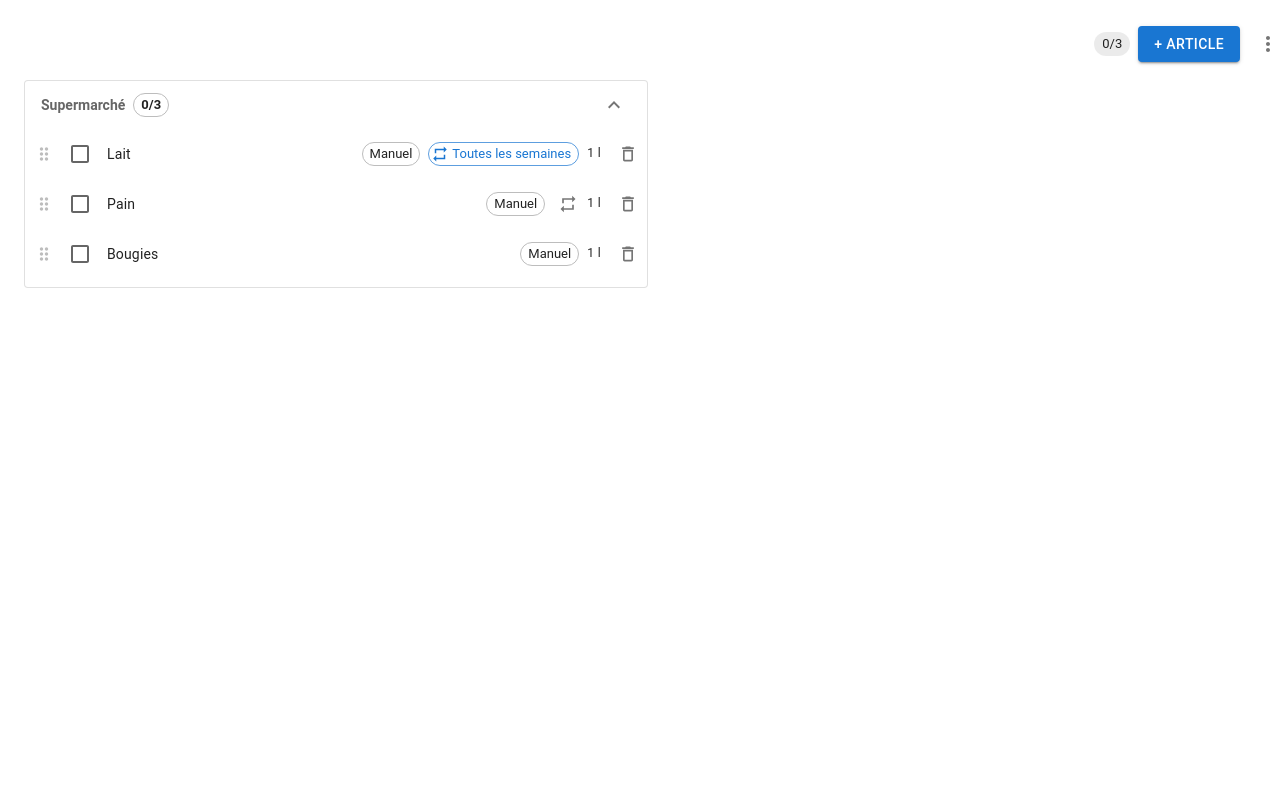
Scenario: GroceryListView — recurring items › the « Produit récurrent » dialog › lists every recurring item with its frequency and its next due date
The image size is (1280, 800).
Expected: the text "Lait" is shown, top-left (107, 146), bottom-right (131, 162)
Click the button named "Plus d'actions". click: (1264, 44)
box: top-left (1248, 24), bottom-right (1279, 64)
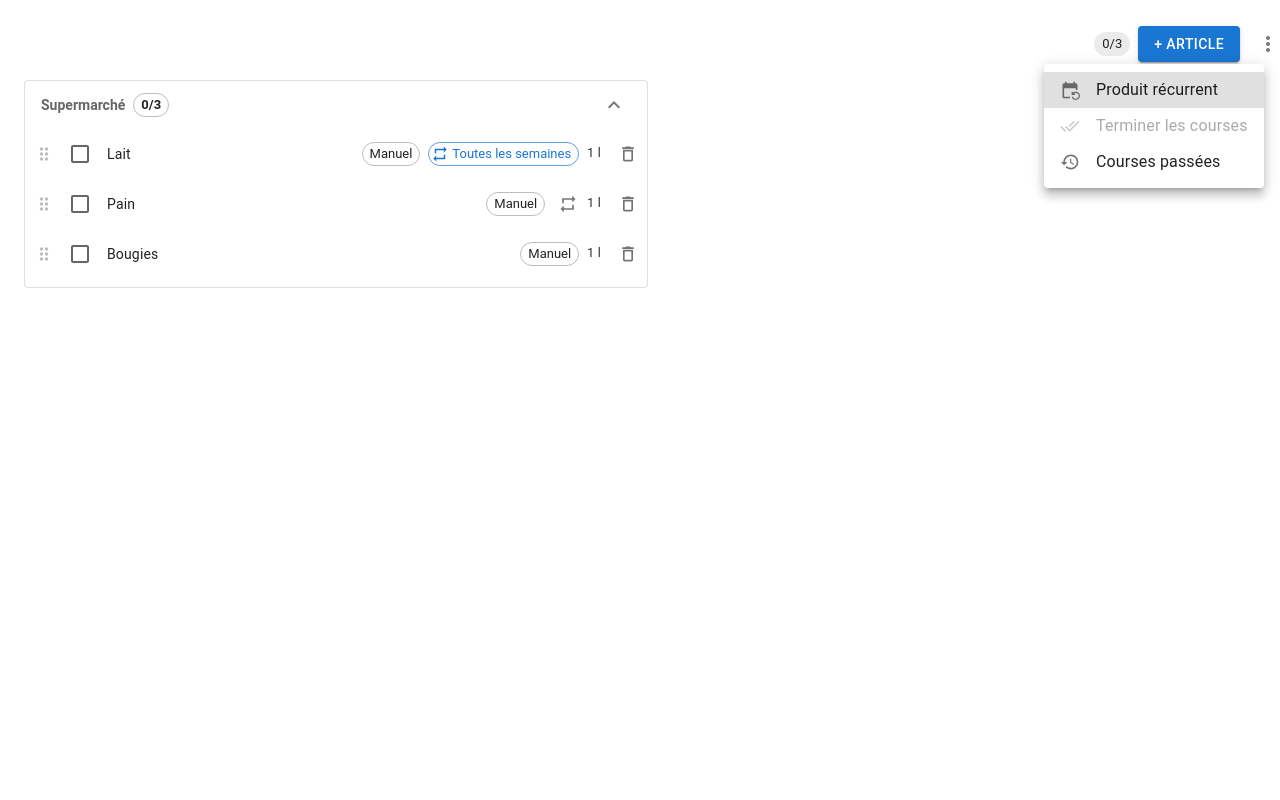
Click the menu item "Produit récurrent". click: (1154, 90)
box: top-left (1044, 72), bottom-right (1264, 108)
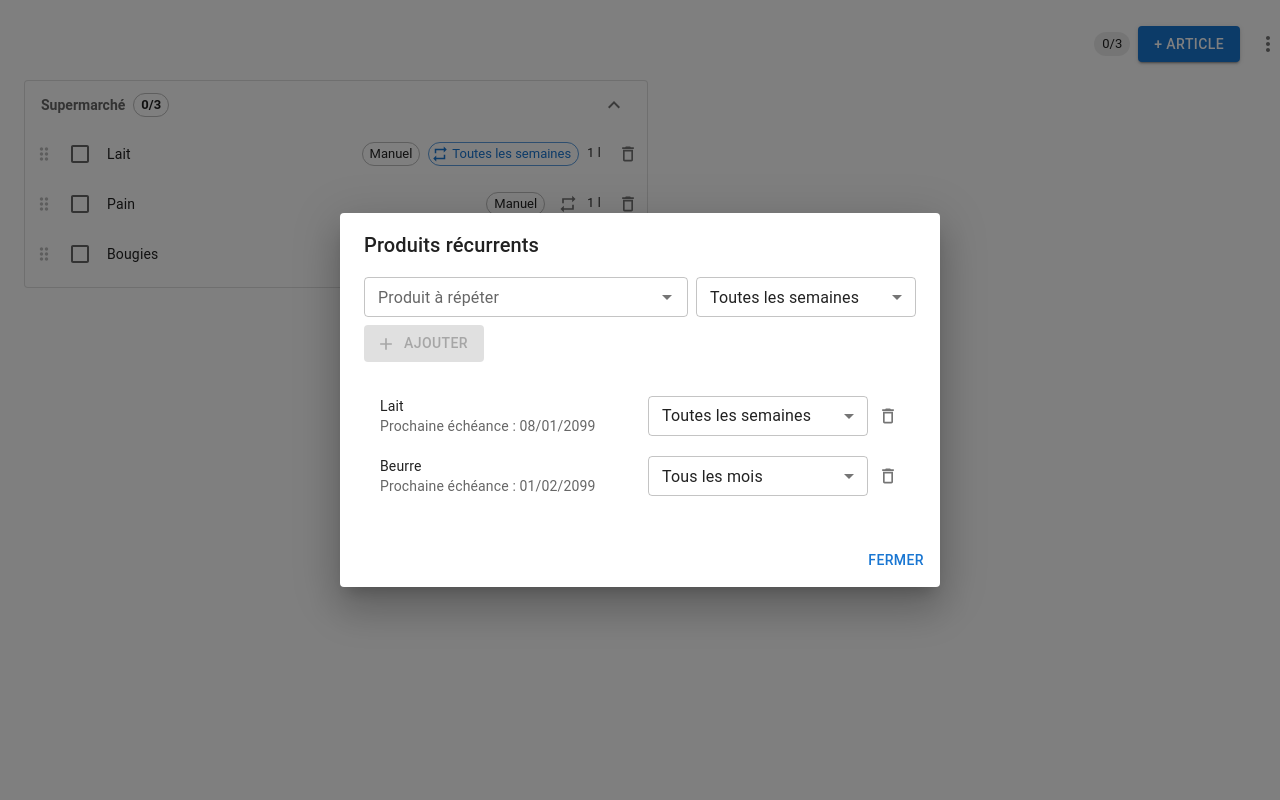
Now the number of list items with test id "recurring-item" is 2, box top-left (364, 386), bottom-right (916, 446); top-left (364, 446), bottom-right (916, 506)
Now the text "Lait" is shown, box top-left (380, 398), bottom-right (404, 414)
Now the text "Prochaine échéance : 08/01/2099" is shown, box top-left (380, 418), bottom-right (596, 434)
